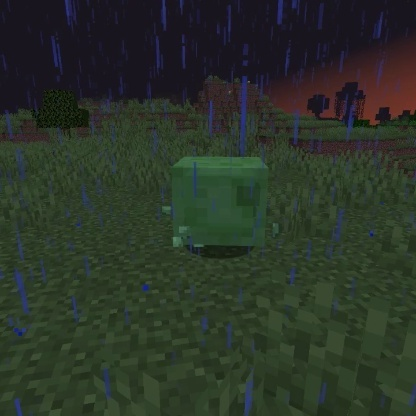slime: (165, 153, 275, 253)
